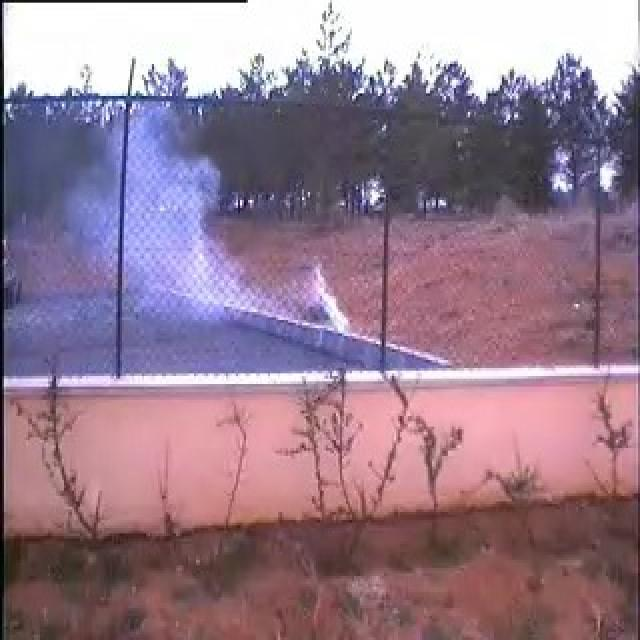smoke: (69, 118, 279, 312)
